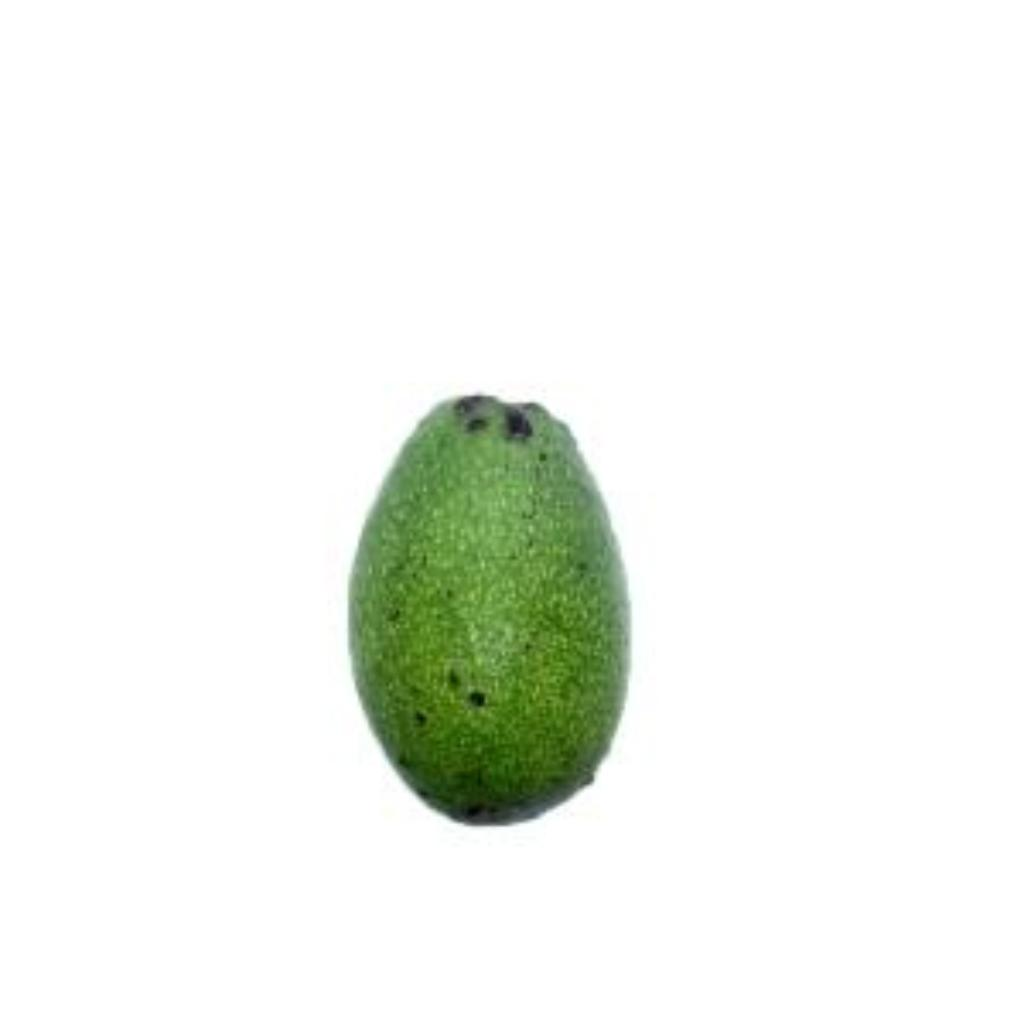cercospora_spot: (338, 372, 652, 832)
